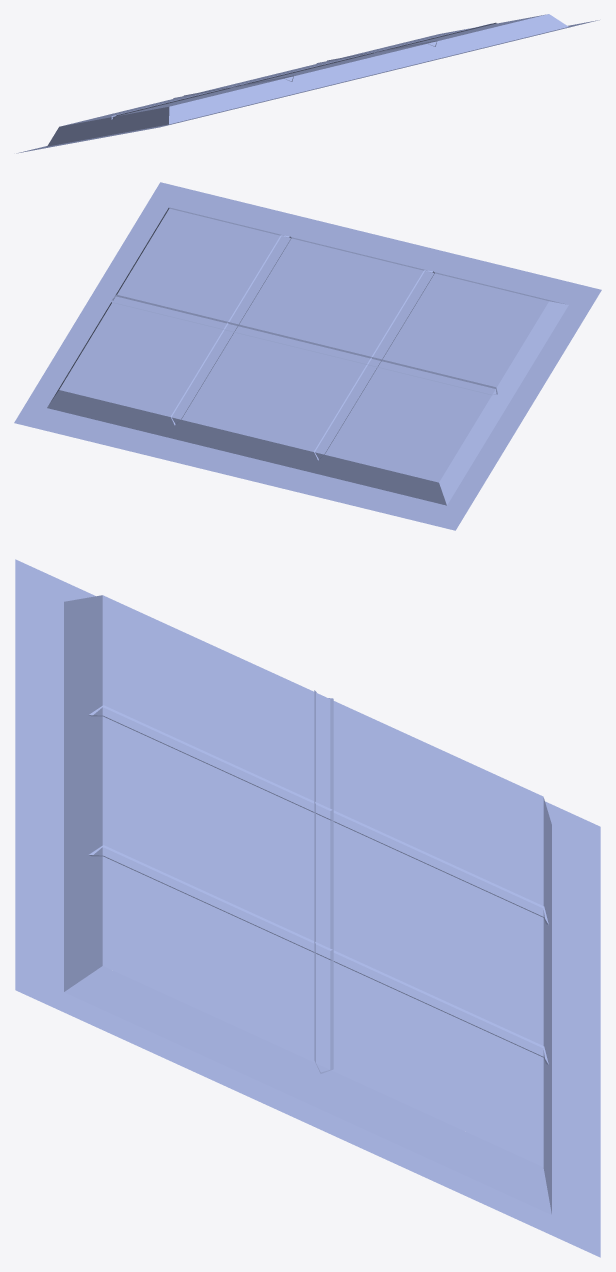
The model's file is Museum_Win_01.fbx.
3 renders of one model, top to bottom at view 1: azimuth 30°, elevation 25°; view 2: azimuth 150°, elevation 25°; view 3: azimuth 270°, elevation 25°, orthographic. The views are drawn at different scales.
Visible parts, largest first — view 1: Archi_Win_01; view 2: Archi_Win_01; view 3: Archi_Win_01.
Part boxes in pixels (x1,y1,x2,y2): Archi_Win_01: (16,14,599,153); Archi_Win_01: (14,182,601,530); Archi_Win_01: (15,559,600,1257).
Size of the model in its own units: 520 by 151 by 298.
